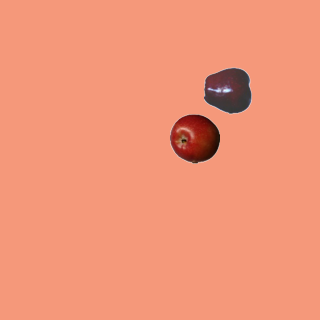Apple Braeburn: (169, 113, 219, 163)
Apple Red Delicious: (203, 65, 253, 115)
